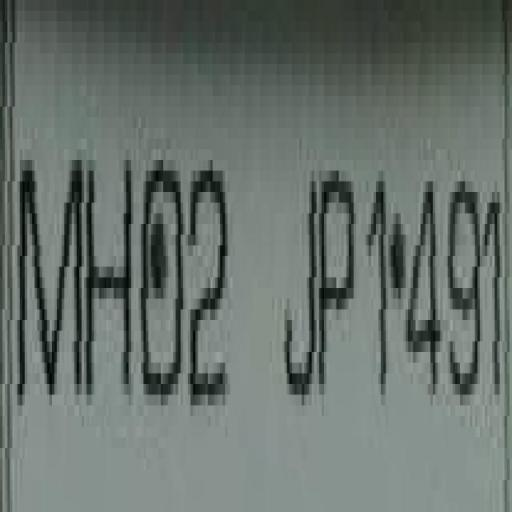number plate: (22, 43, 508, 491)
